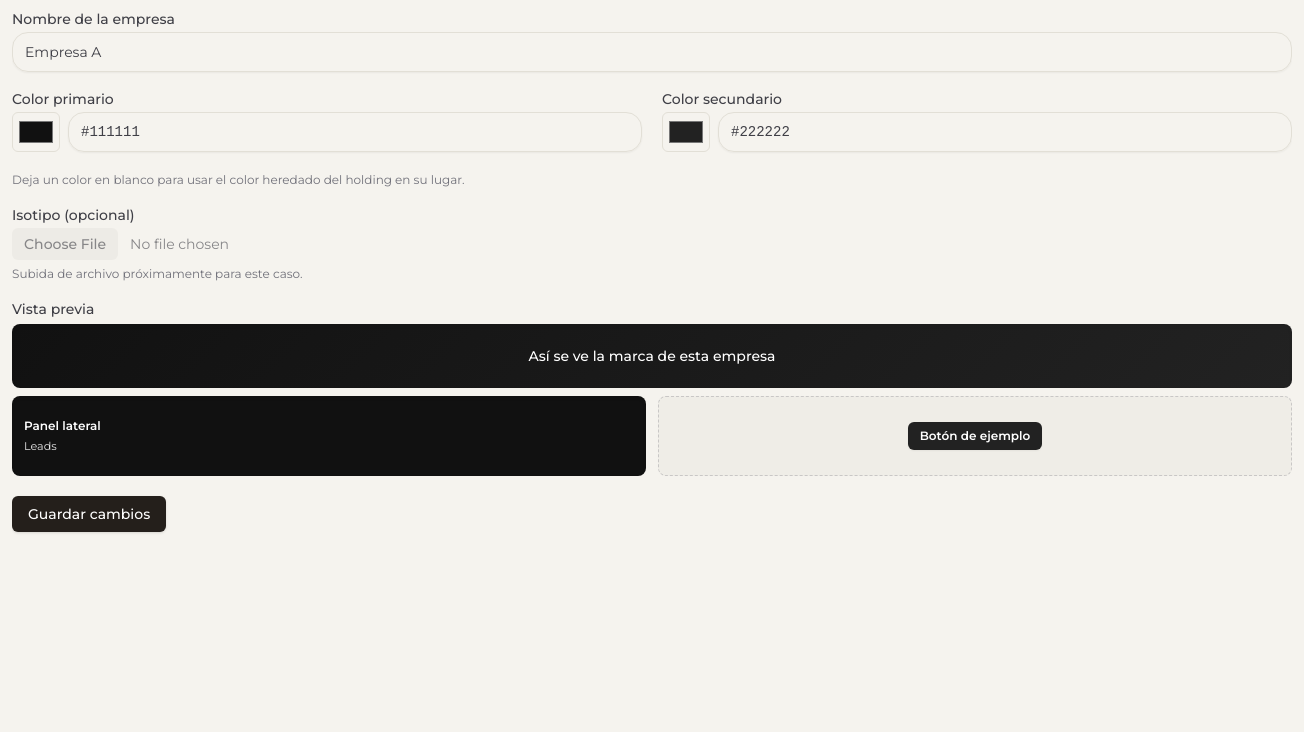
Test: EmpresaAparienciaForm — admin holding (con nombre) › rechaza un nombre vacío antes de enviar
The image size is (1304, 732).
Clear the field labelled "Nombre de la empresa" at point(652, 52), box [12,32,1292,72]
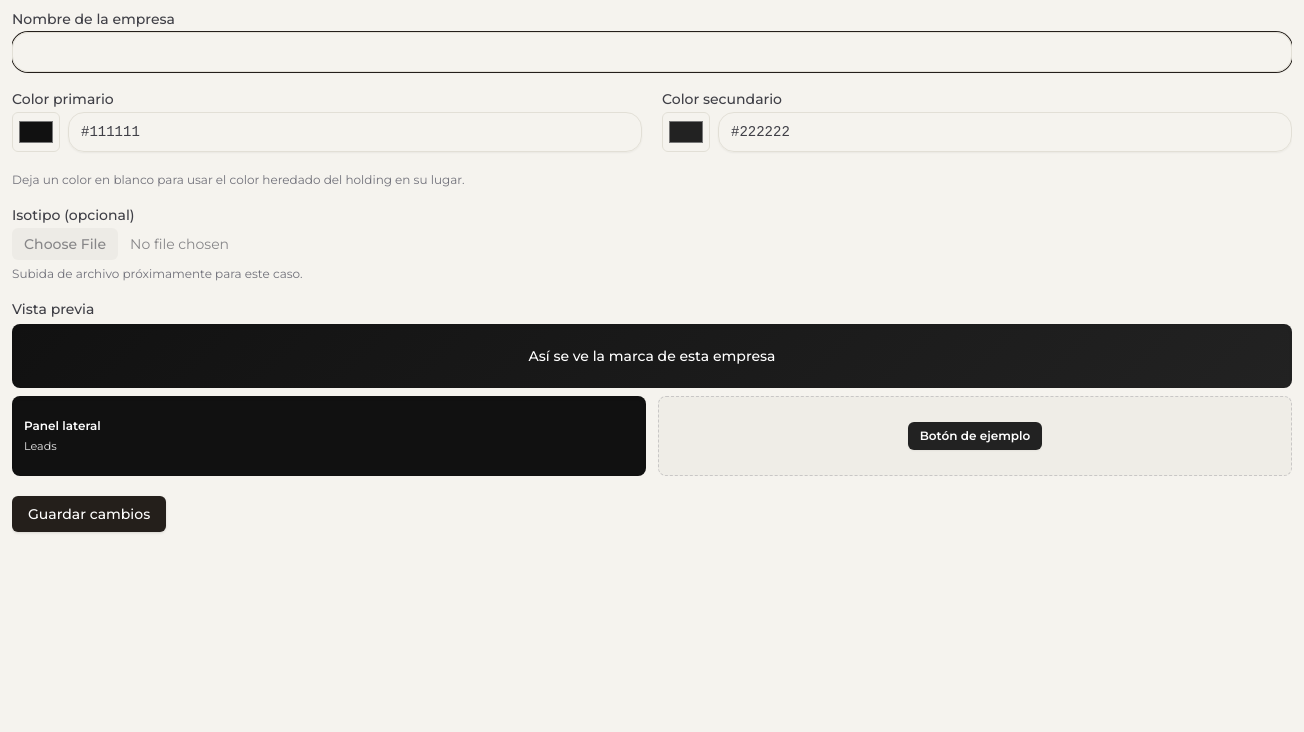
Click the button "Guardar cambios".
click(89, 514)  # box [12,496,166,532]
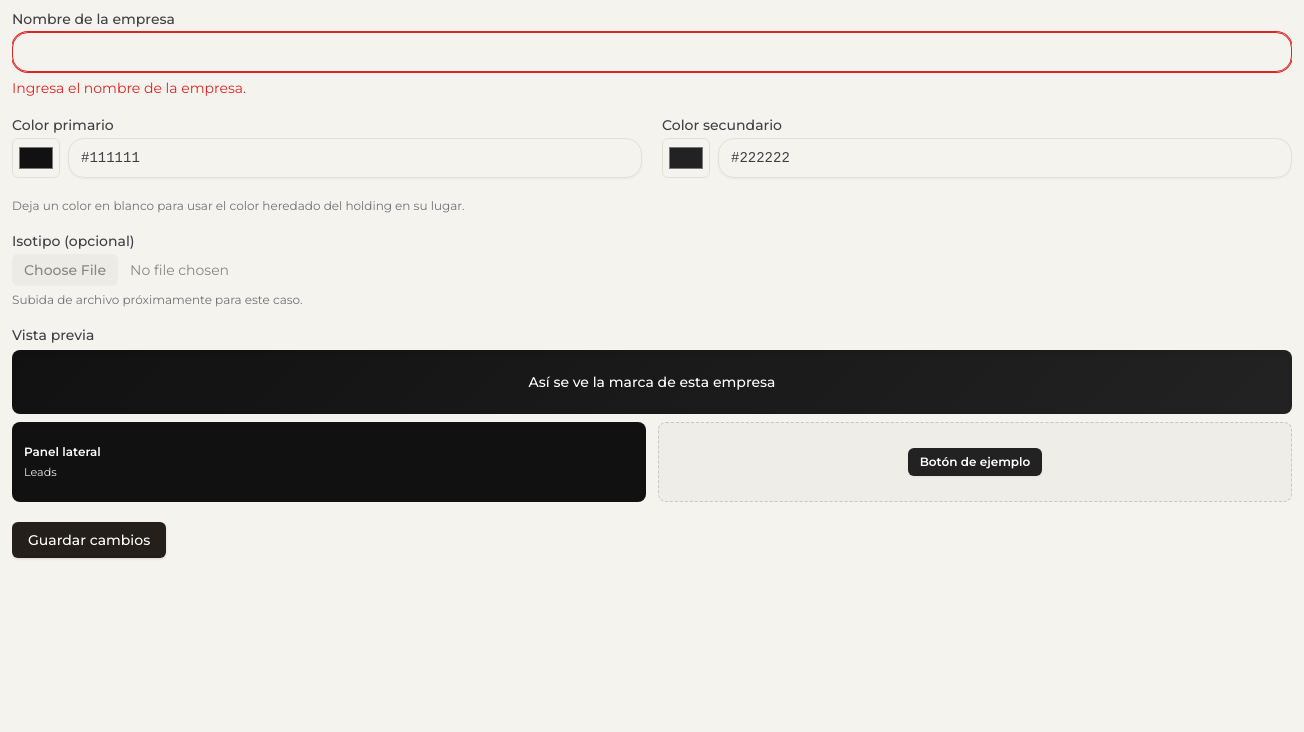
Check: the text "Ingresa el nombre de la empresa." is shown, box [12,79,246,97]
